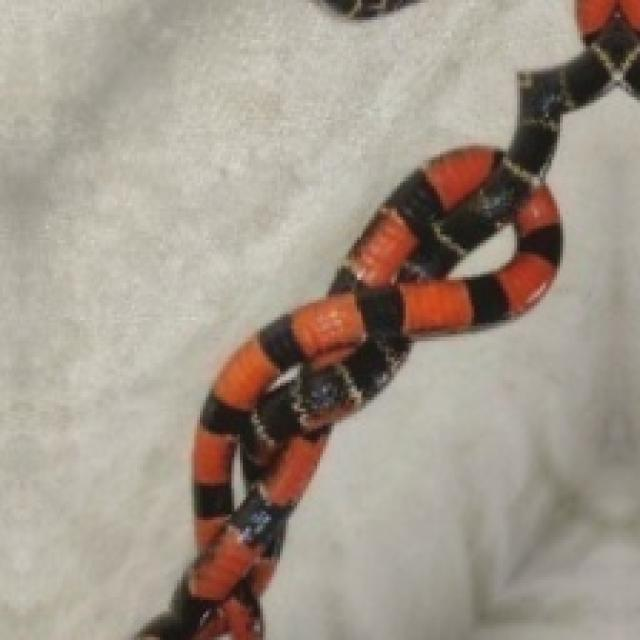barredcoral snake: (134, 0, 637, 637)
